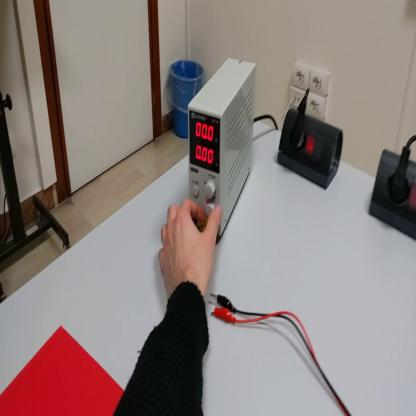hand: (158, 199, 221, 296)
power supply: (187, 60, 256, 240)
register: (2, 325, 125, 416)
socket: (278, 103, 345, 193), (371, 147, 416, 241)
